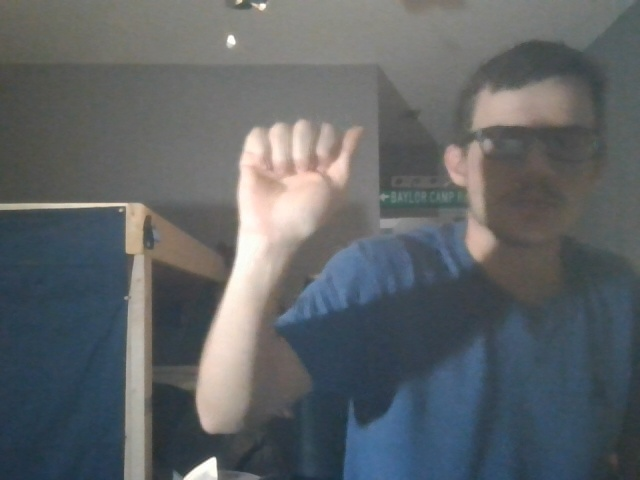A: (229, 116, 369, 247)
